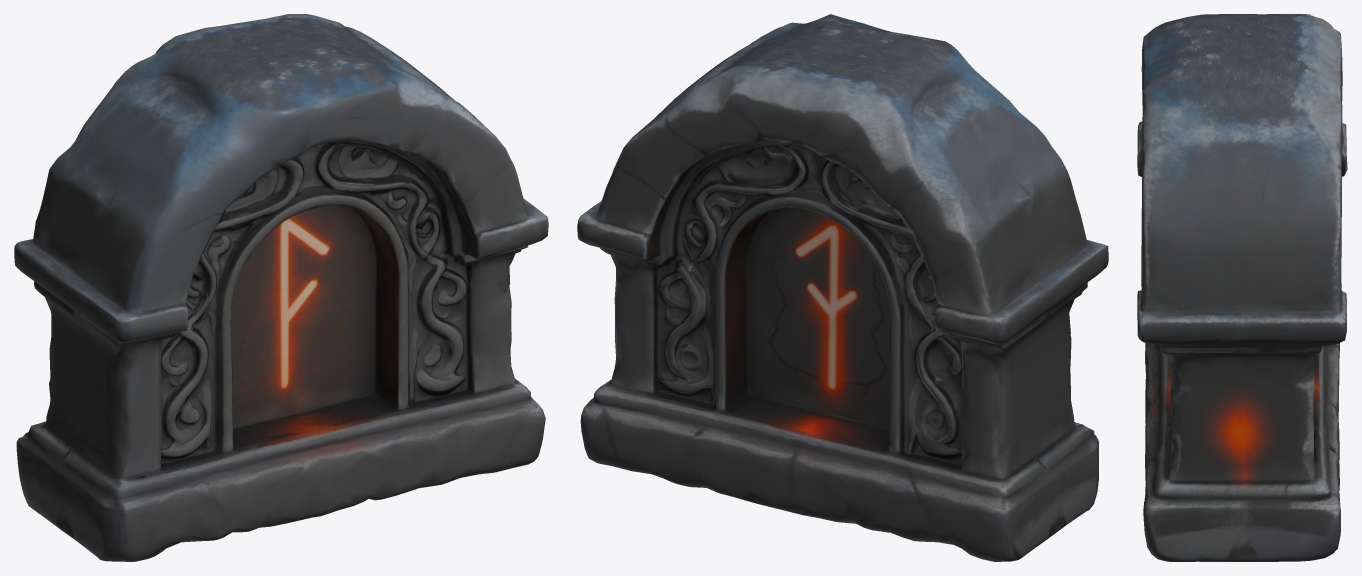
File: arch_keystone.glb
3 renders of one model, left to right at view 1: azimuth 30°, elevation 25°; view 2: azimuth 150°, elevation 25°; view 3: azimuth 270°, elevation 25°, orthographic. The views are drawn at different scales.
Bounding box in the file's own units: 2 × 1.93 × 0.8766.
Materials: 1 (1 with a texture image).
